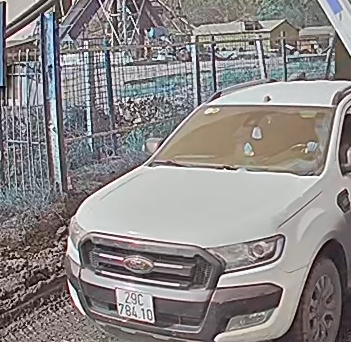vehicle plate: (110, 283, 160, 328)
